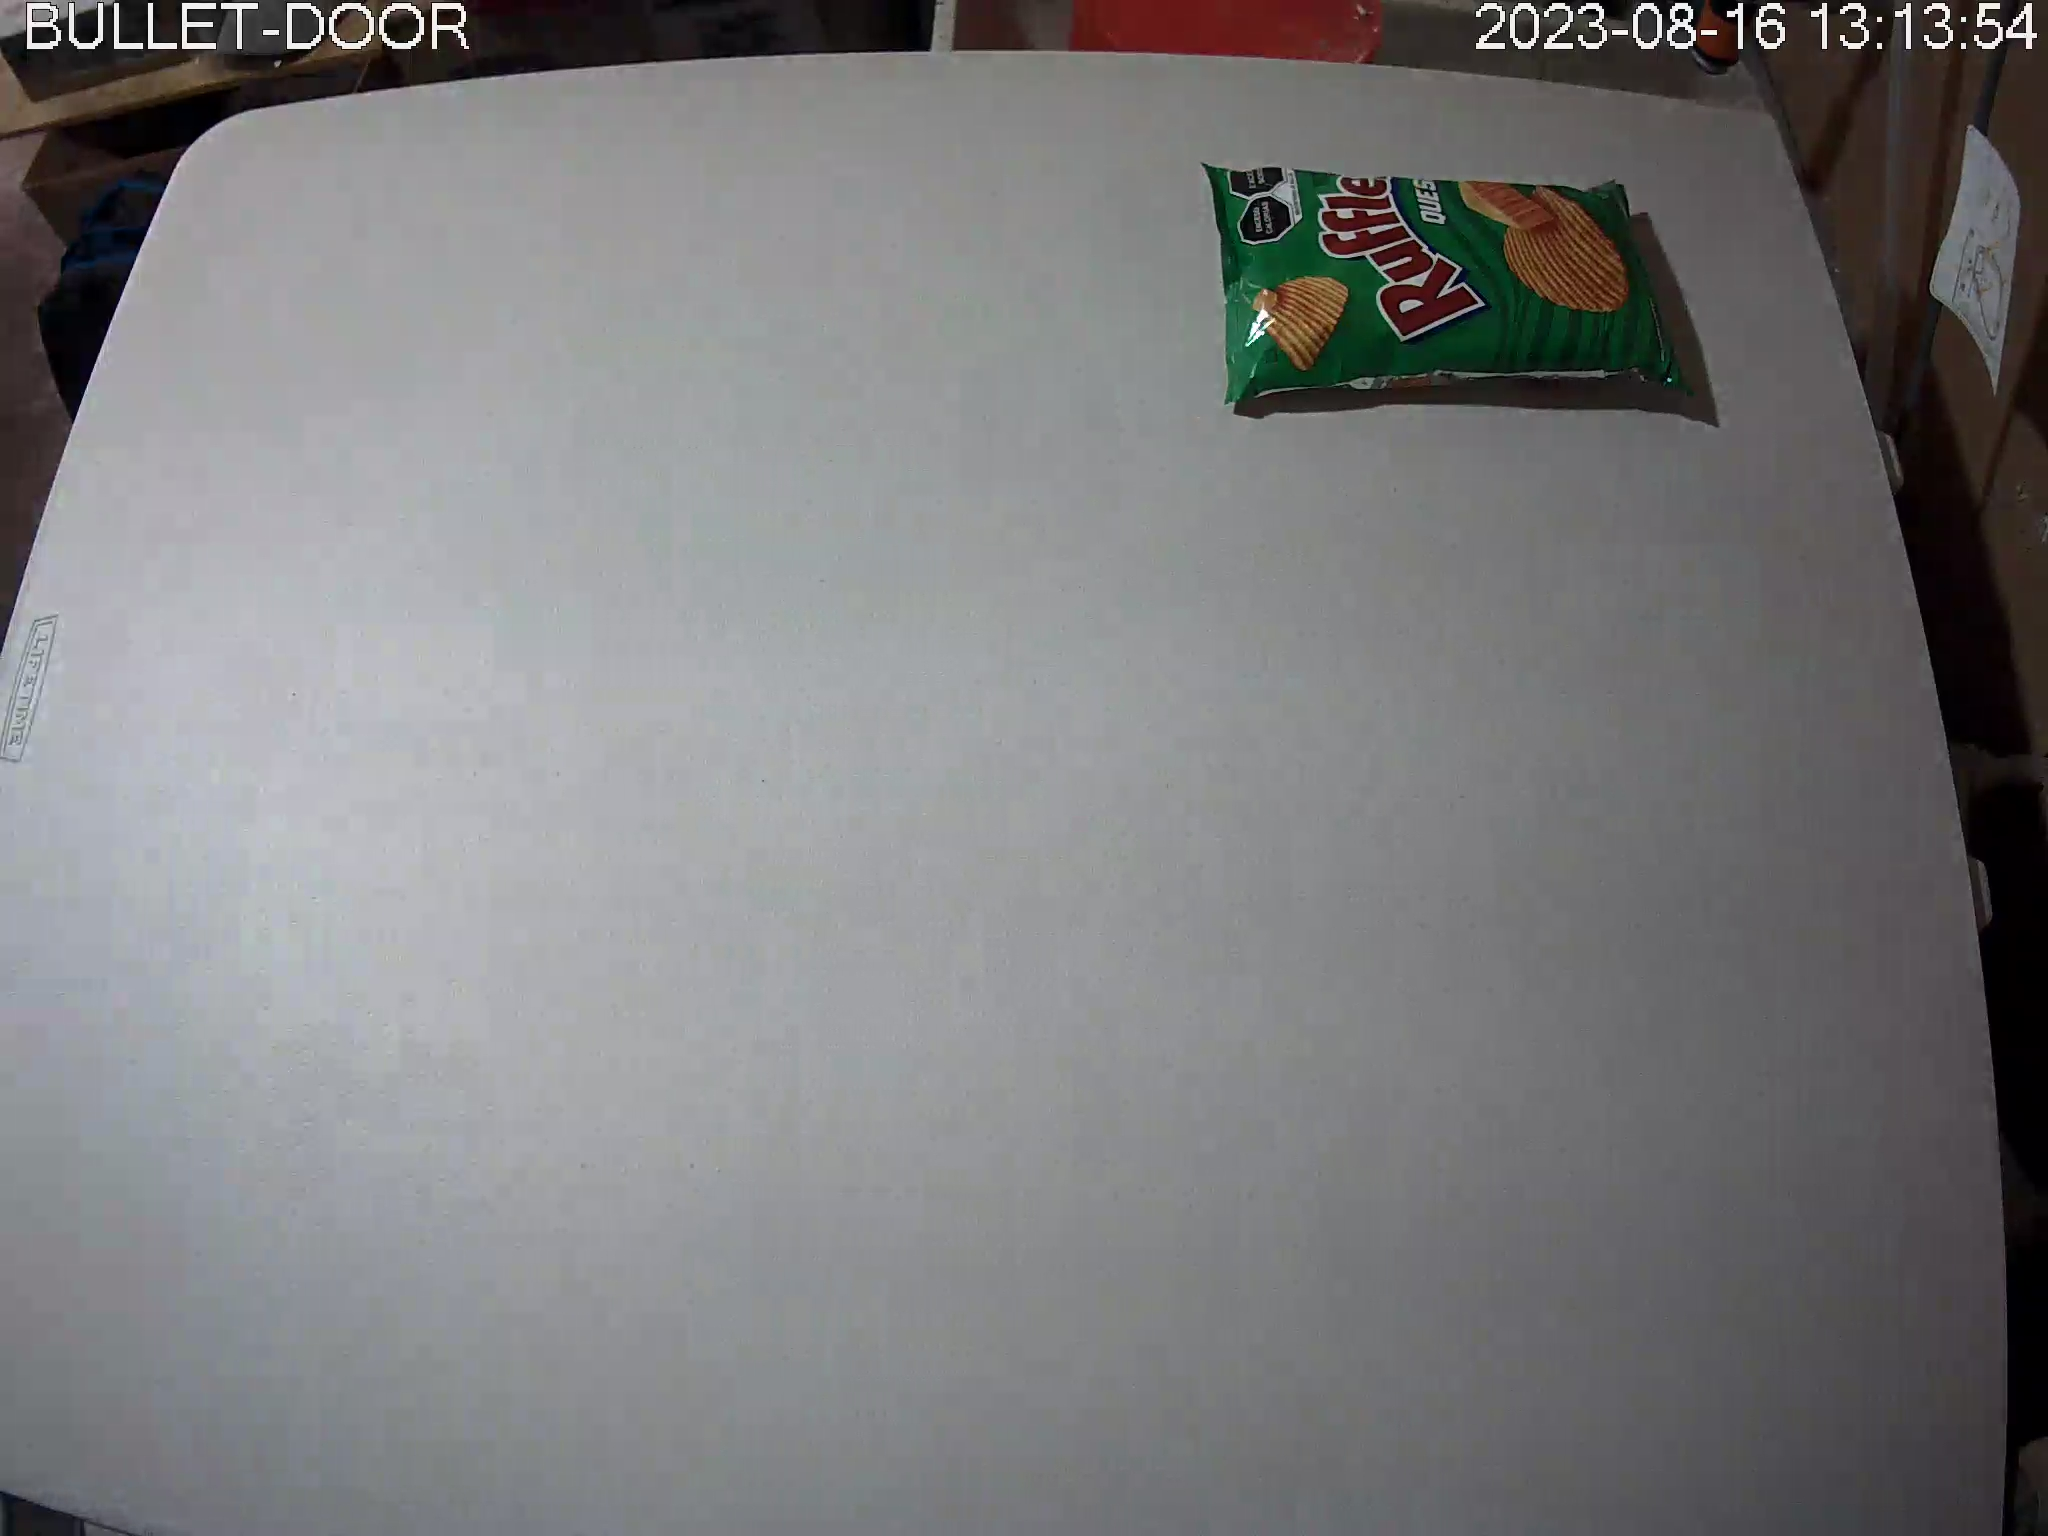RufflesQ_48_F: (1197, 157, 1692, 410)
